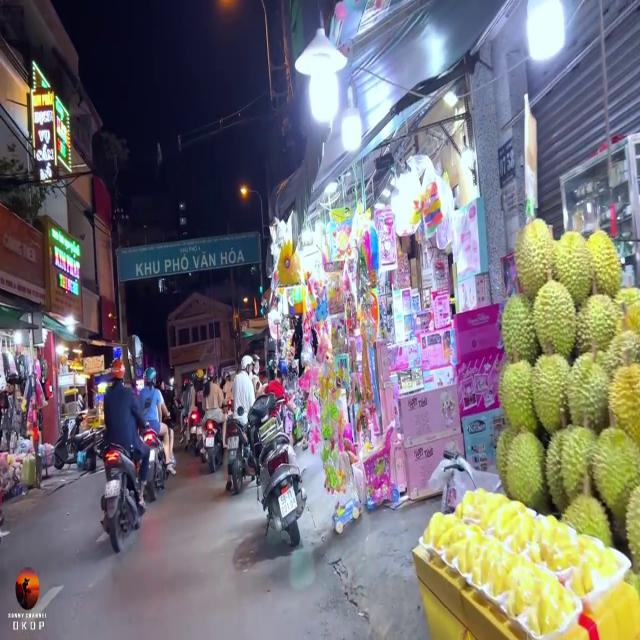bien_trang: (278, 486, 298, 518)
